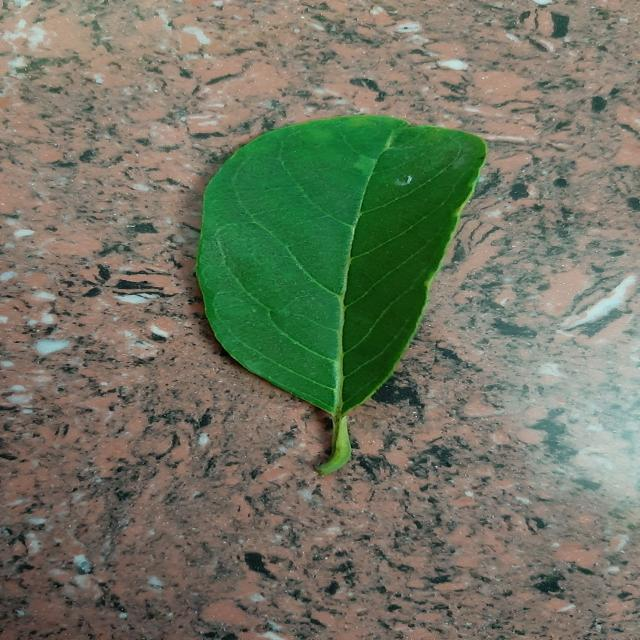seethaphala: (195, 116, 485, 474)
